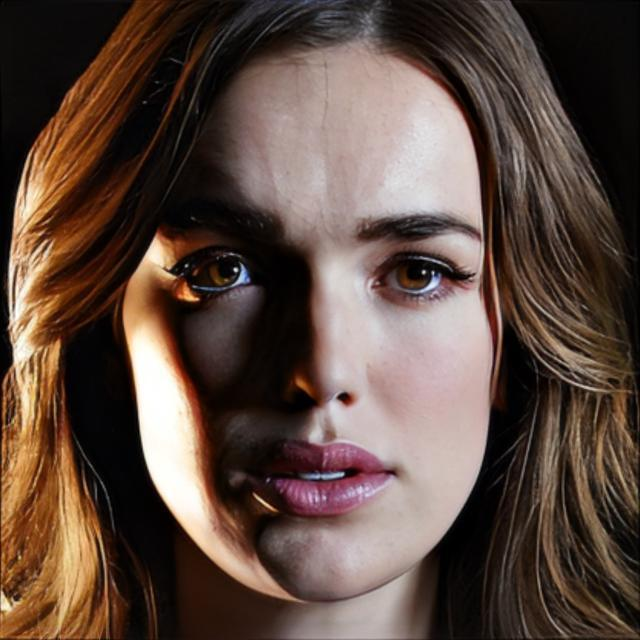neutral: (121, 31, 504, 604)
